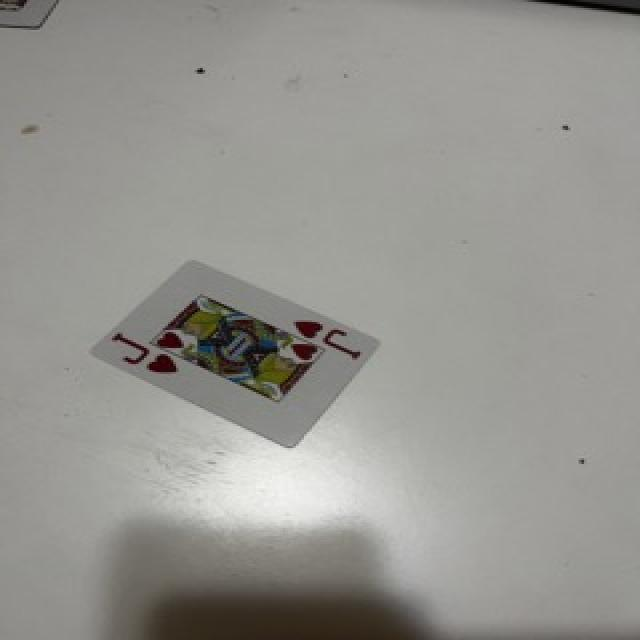Jack of hearts: (95, 261, 380, 446)
